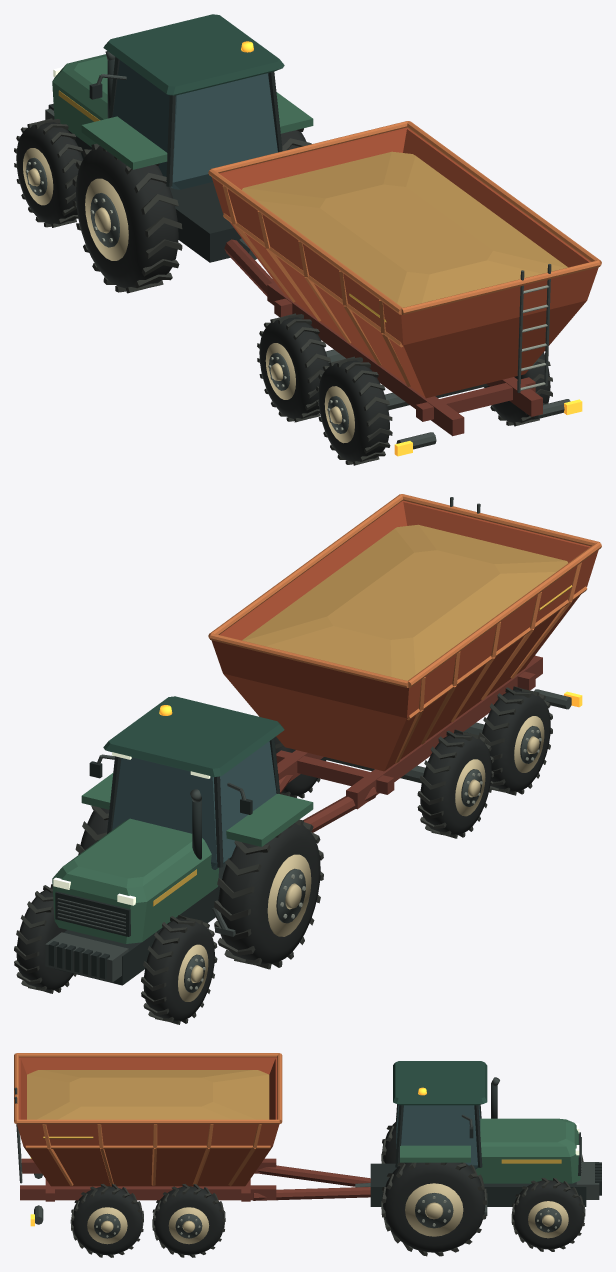
The model's file is carreta.glb.
3 renders of one model, top to bottom at view 1: azimuth 30°, elevation 25°; view 2: azimuth 150°, elevation 25°; view 3: azimuth 270°, elevation 25°, orthographic. The views are drawn at different scales.
Parts seen in each view (by area): view 1: CaixaTandem, Trator, Graos; view 2: Trator, CaixaTandem, Graos; view 3: CaixaTandem, Trator, Graos.
Boxes of the visible parts, bbox=[...] form: CaixaTandem: bbox=[208, 121, 601, 465]; Trator: bbox=[14, 14, 313, 293]; Graos: bbox=[242, 151, 567, 307]; Trator: bbox=[14, 696, 323, 1024]; CaixaTandem: bbox=[208, 494, 601, 838]; Graos: bbox=[242, 524, 567, 680]; CaixaTandem: bbox=[14, 1053, 370, 1257]; Trator: bbox=[355, 1061, 601, 1256]; Graos: bbox=[27, 1070, 269, 1119].
Size of the model in its own units: 2.79 by 2.87 by 10.09.
